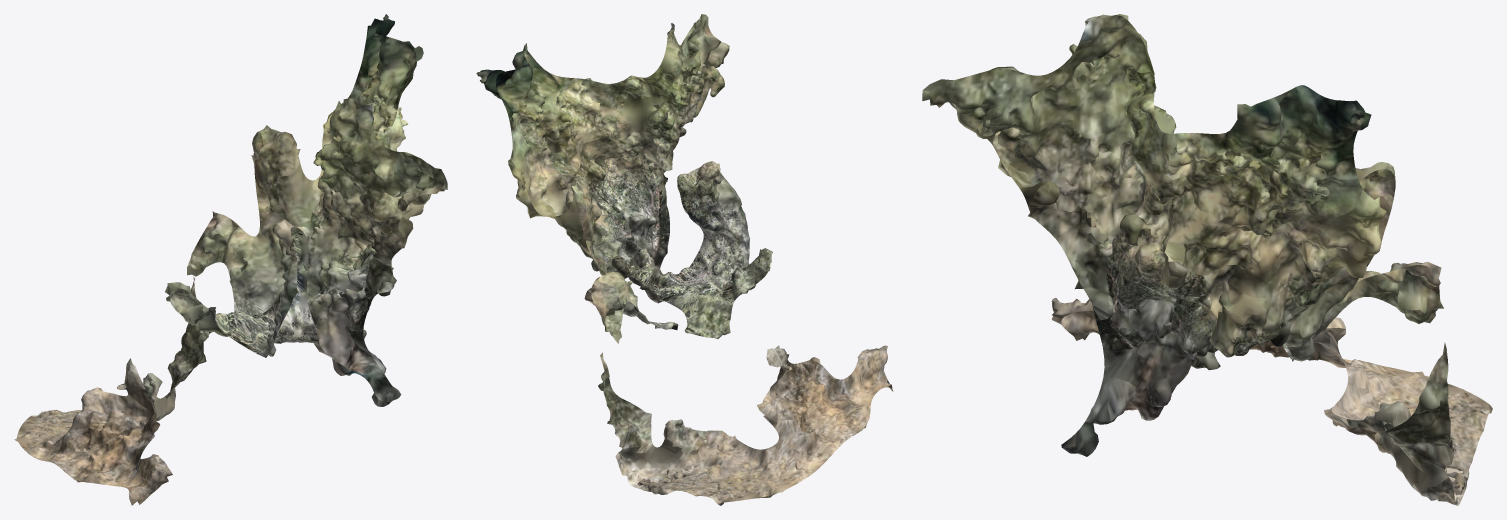
Rendered from Oregon plant 1.obj.
3 views of the same model, side by side, from view 1: azimuth 30°, elevation 25°; view 2: azimuth 150°, elevation 25°; view 3: azimuth 270°, elevation 25° (orthographic). The views are drawn at different scales.
Visible parts, largest first — view 1: Object; view 2: Object; view 3: Object.
Part boxes in pixels (box(x1,y1,x2,y2)): Object: box(14, 14, 447, 505); Object: box(476, 14, 893, 505); Object: box(922, 14, 1492, 505).
Bounding box in the file's own units: 1.62 × 1.61 × 1.53.
1 material, 1 textured.
